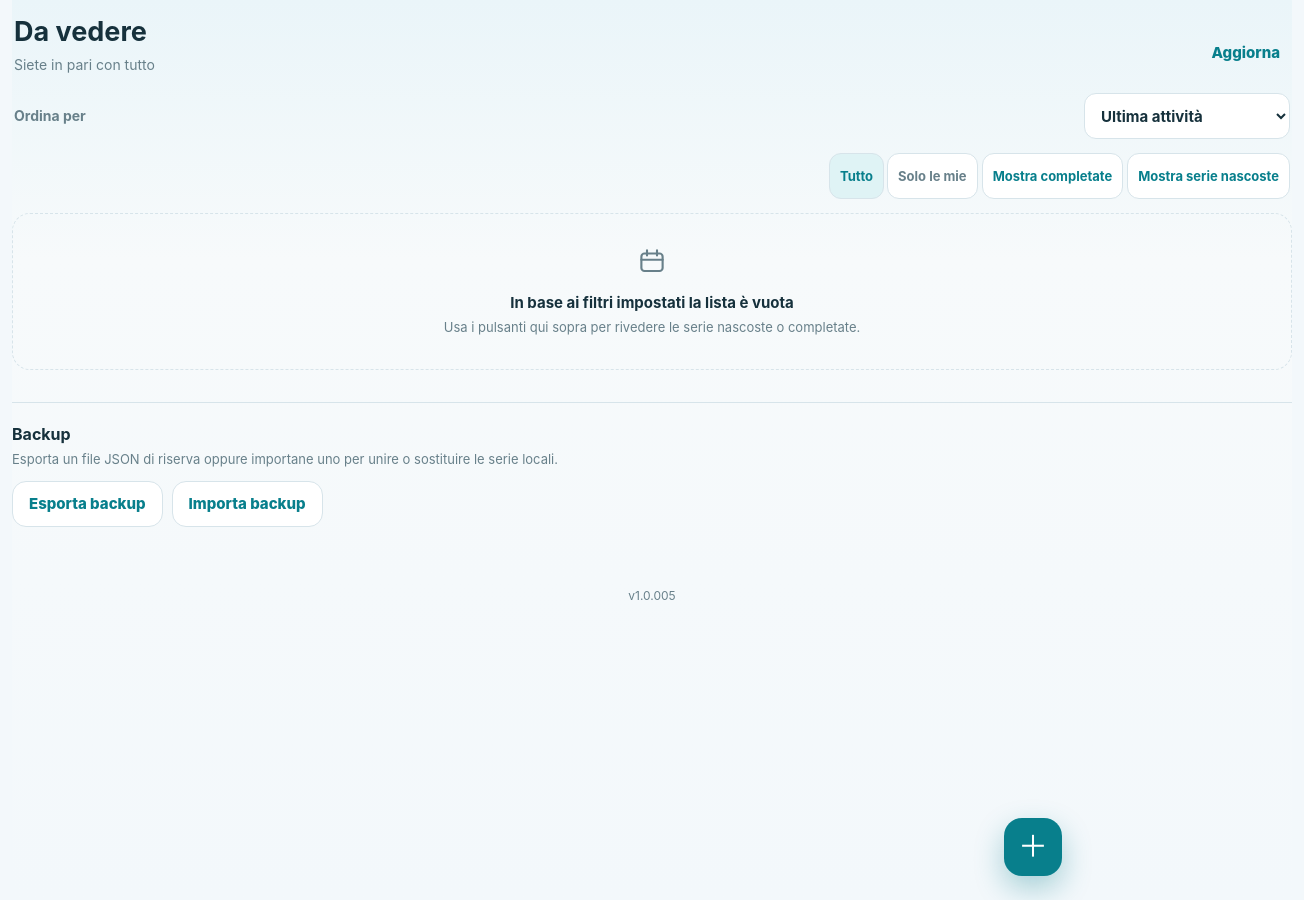
Test: HomeView — serie nascoste (criteri 7, 8, 10, 11) › il filtro delle nascoste è esclusivo: nascoste e attive non compaiono mai insieme
The image size is (1304, 900).
Expected: the button with class "hidden-toggle" is shown, [1127,153,1290,199]
Click the button with class "completed-toggle". click: [1052, 176]
box: [982,153,1123,199]
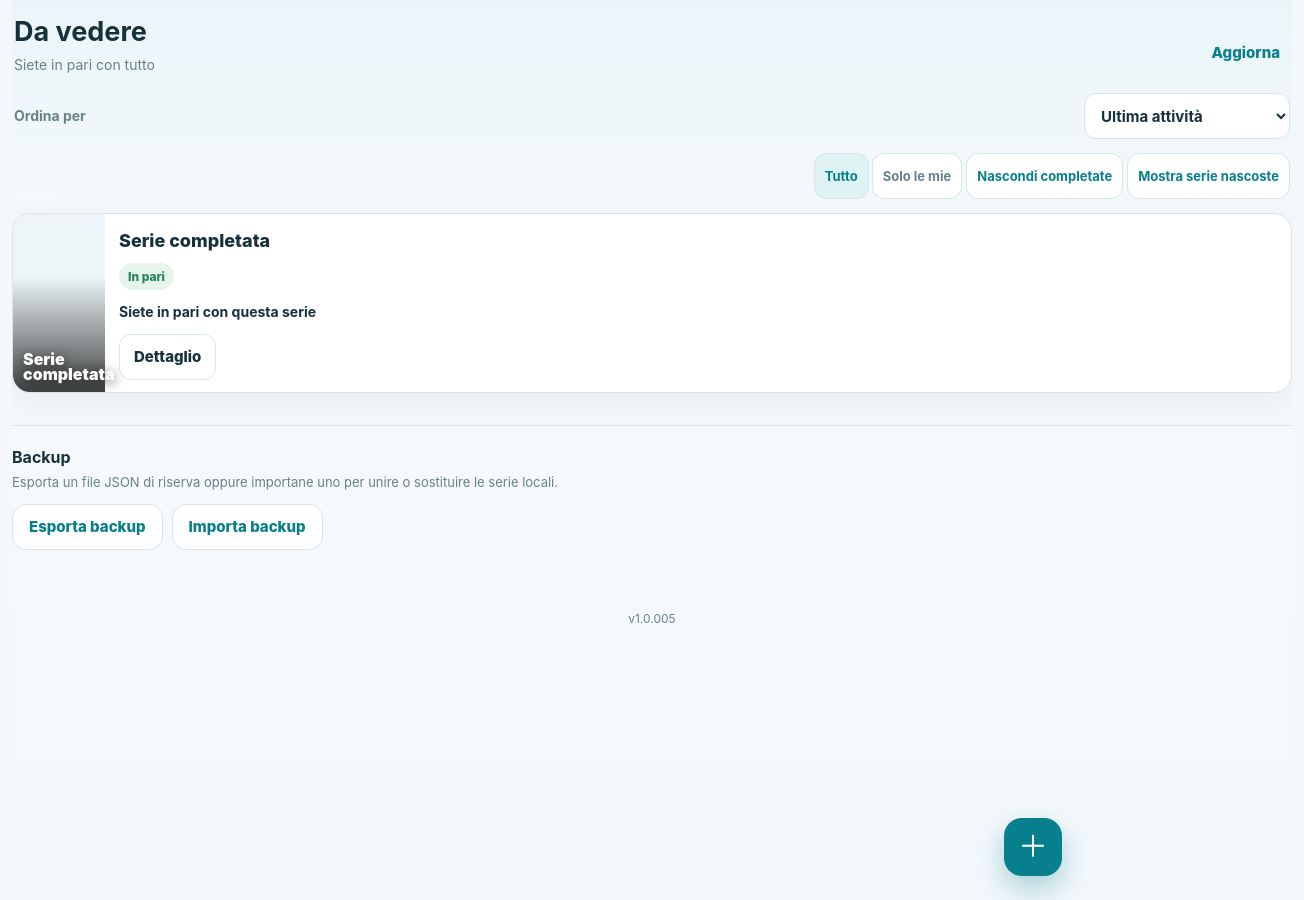
Result: the number of elements with class "show" is 1 at [12,213,1292,393]
Result: the text "Serie completata" is shown at [23,352,114,382]
Click the button with class "hidden-toggle". click: [1209, 176]
box: [1127,153,1290,199]
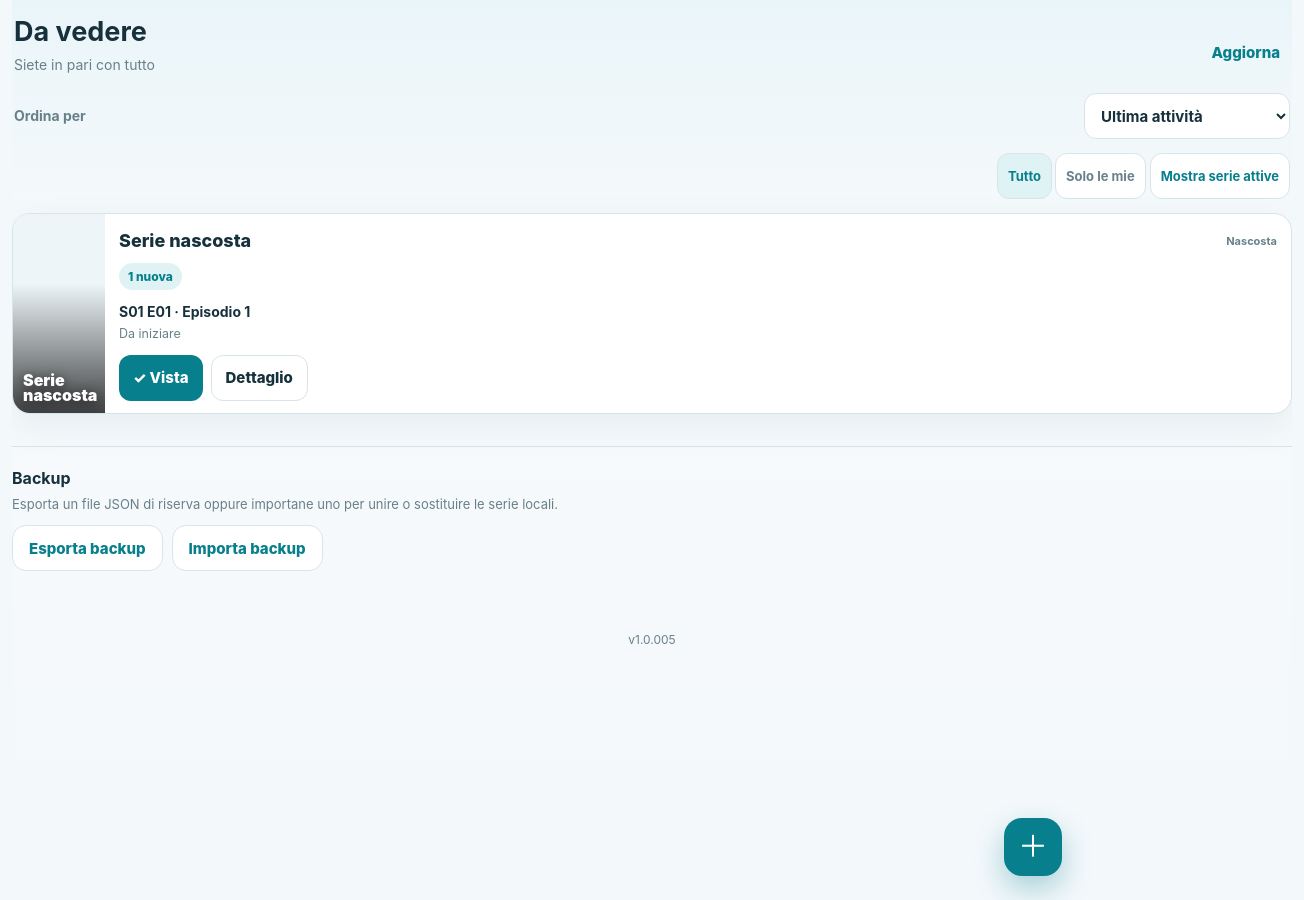
Result: the number of elements with class "show" is 1 at [12,213,1292,414]
Result: the text "Serie nascosta" is shown at [23,373,97,403]
Result: the text "Serie completata" is gone
